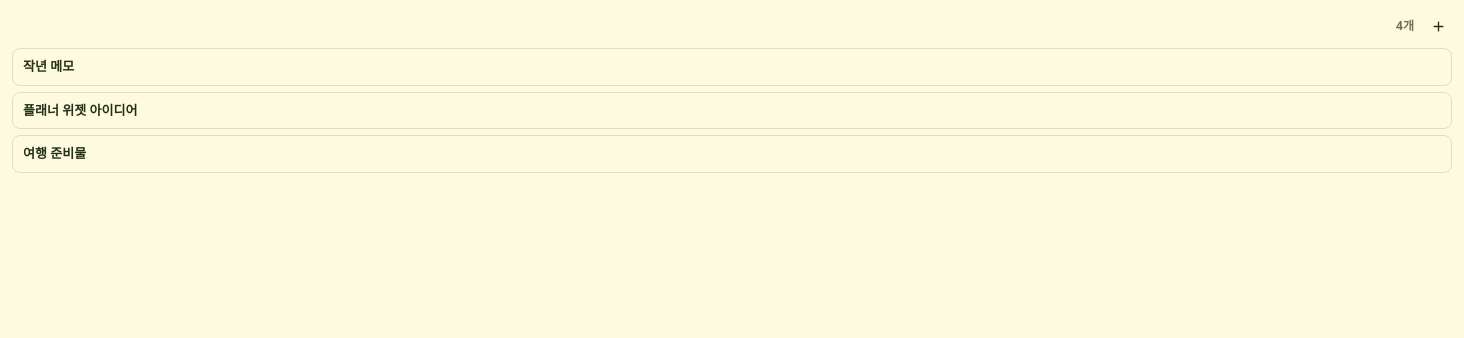
Test: PC 사이드바 메모 섹션 (US-25, D-055) › 제목·내용을 모두 비운 동안은 자동 저장하지 않고, 그대로 접으면 확인 없이 삭제 (D-057)
Click the button "여행 준비물" at (55, 153), box [13,136,1451,172]
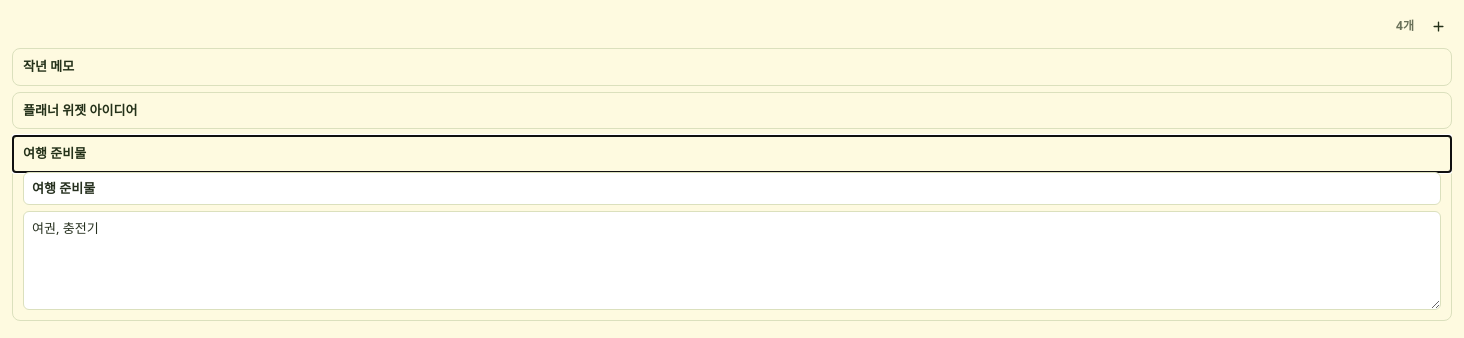
Clear the field named "메모 제목" at (732, 188), box [23,172,1441,205]
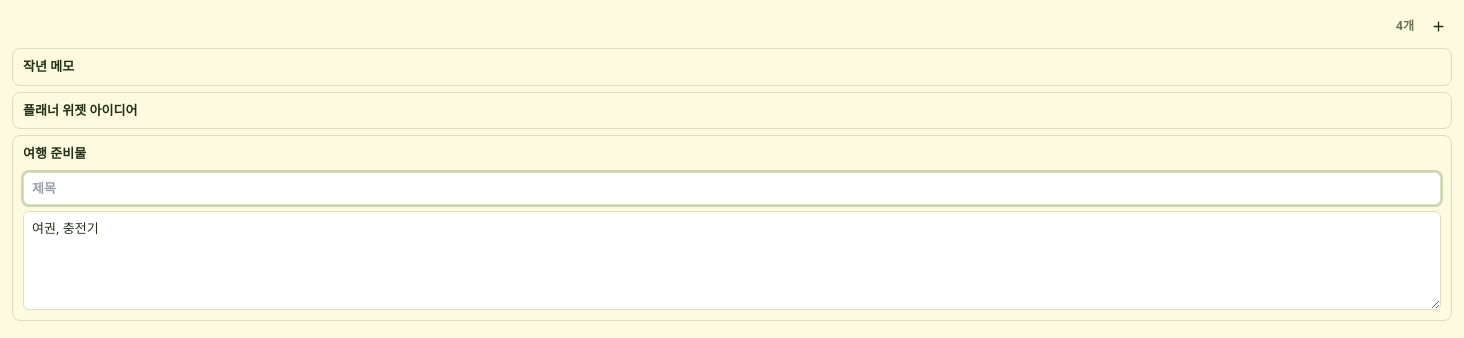
Clear the text box named "메모 내용" at (732, 260), box [23,211,1441,310]
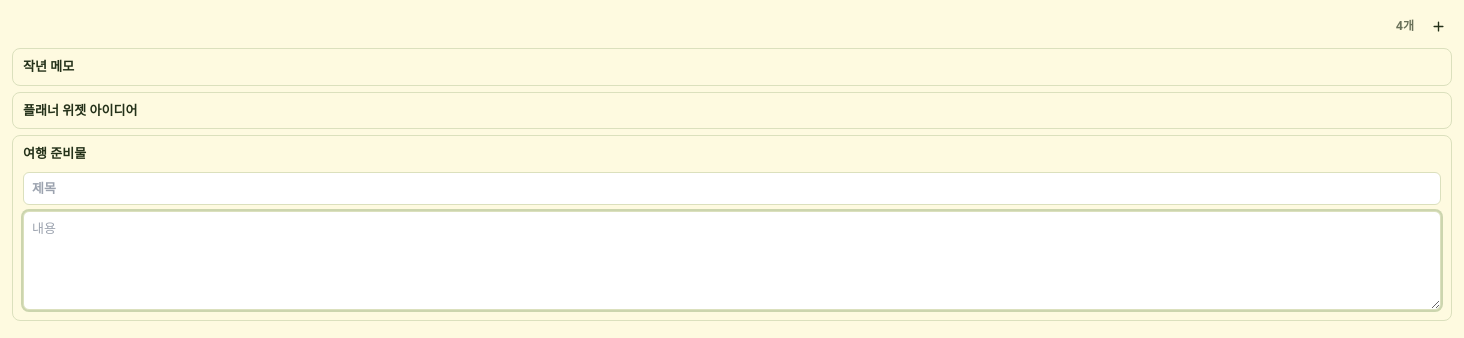
Click the button "여행 준비물" at (55, 153), box [13,136,1451,172]
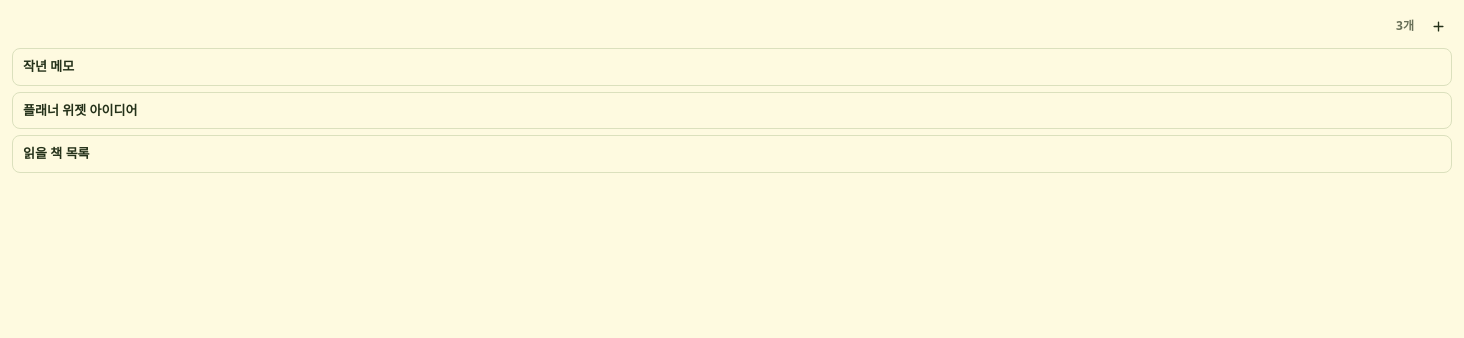
Result: the button named "메모 3개 모두 보기" is shown at [1390,16,1420,36]
Result: the list named "사이드바 메모" no longer shows "여행 준비물" at [12,48,1452,172]
